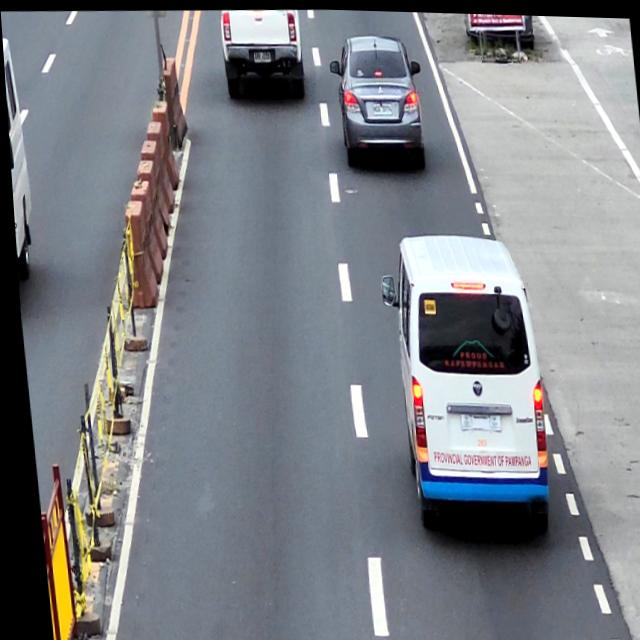Car: (373, 226, 550, 539), (325, 29, 429, 172), (217, 6, 307, 98)
License-Plate: (371, 100, 390, 113), (252, 48, 270, 61)
